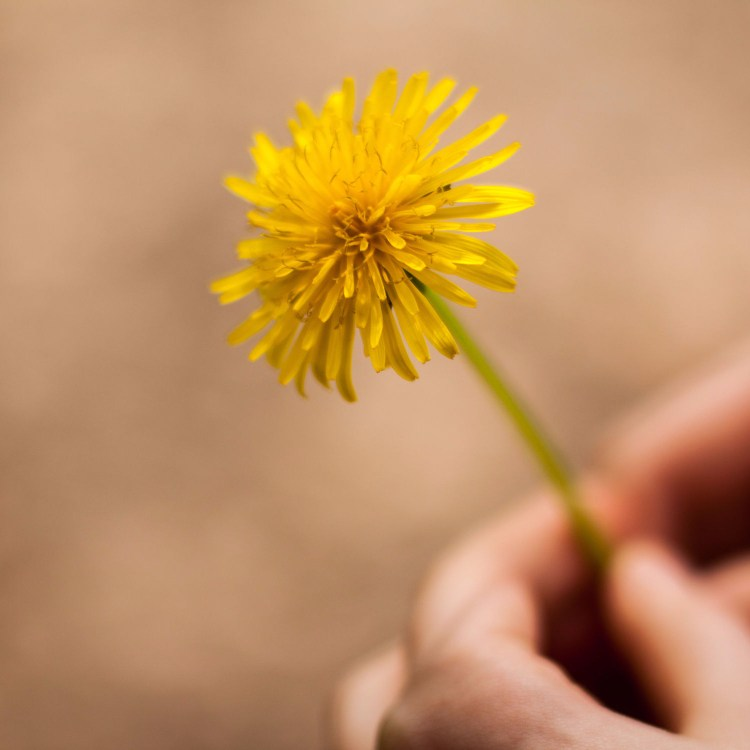dandelion: (198, 65, 559, 401)
